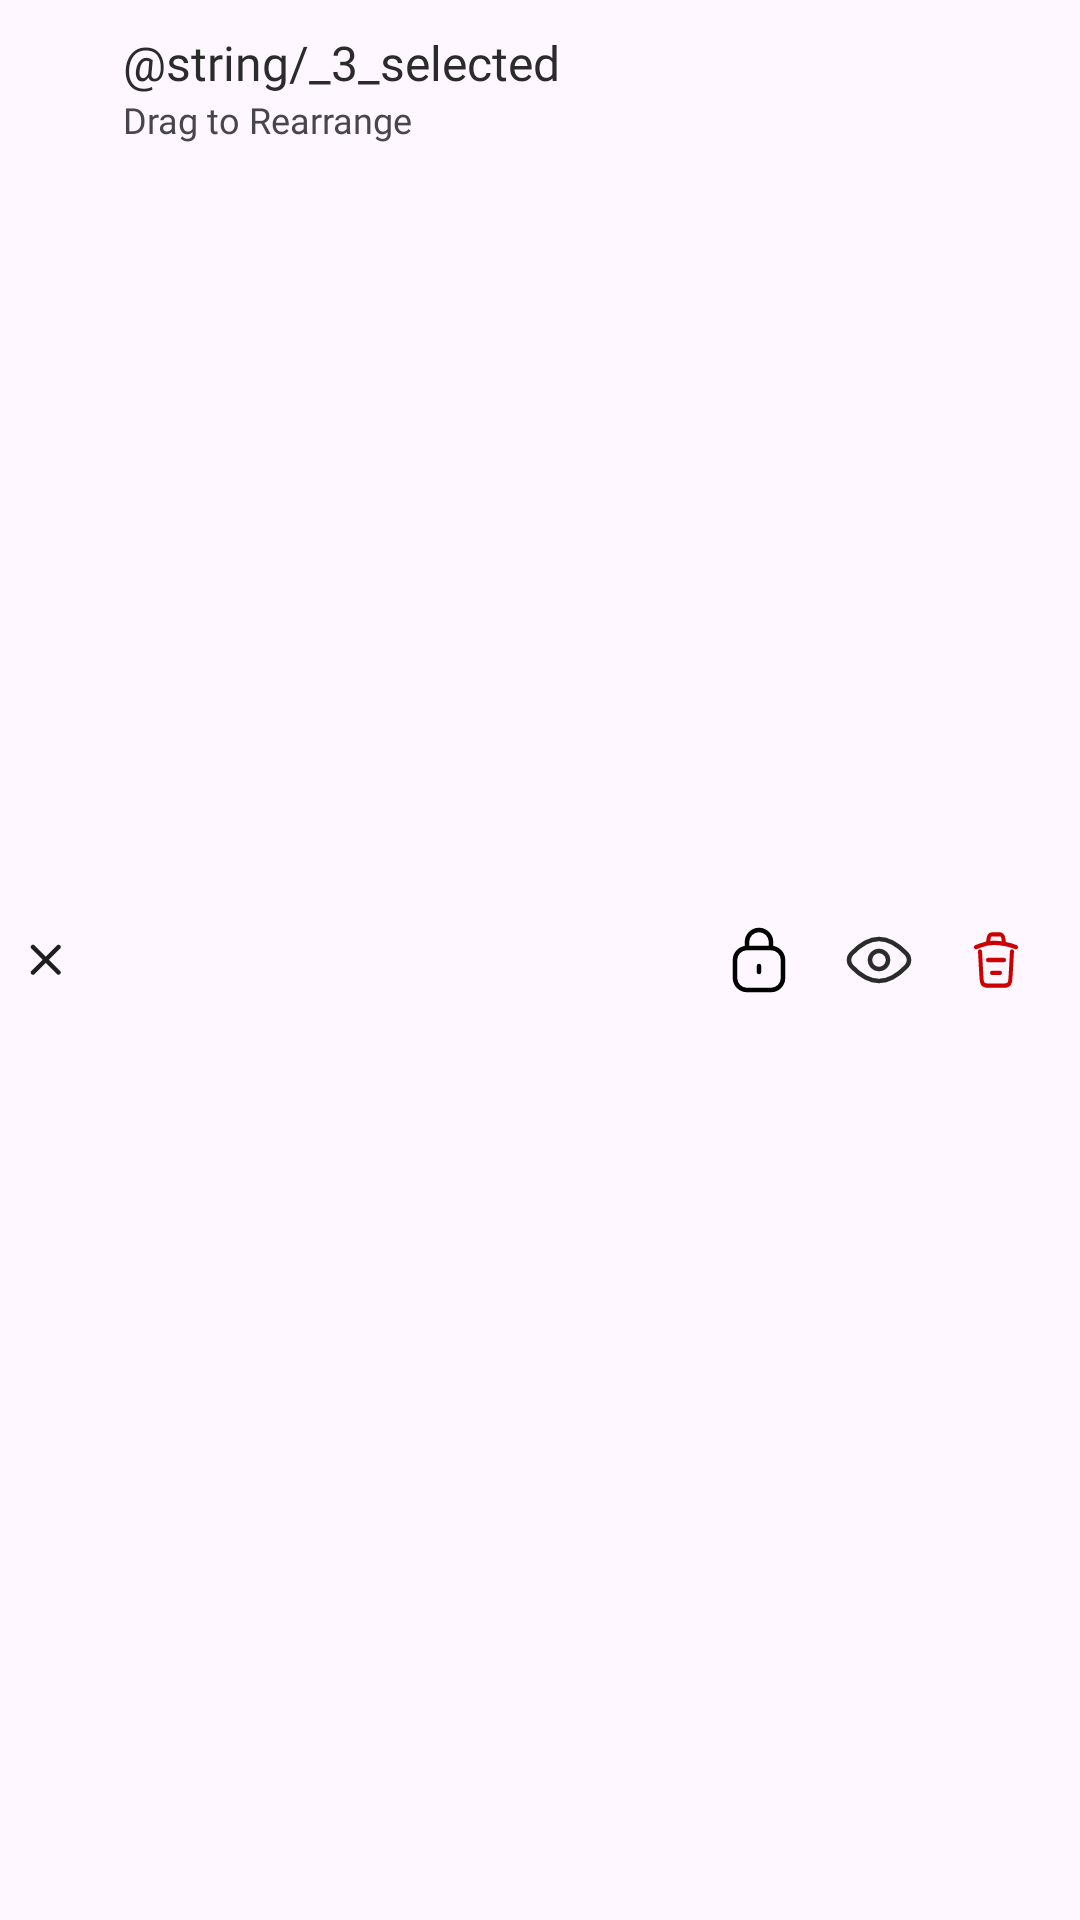

Point at icon controls on the screen. Image size 1080x1920, points as point (x, y).
close: point (45, 959)
delete: point (996, 960)
lock: point (759, 960)
show pass: point (879, 960)
